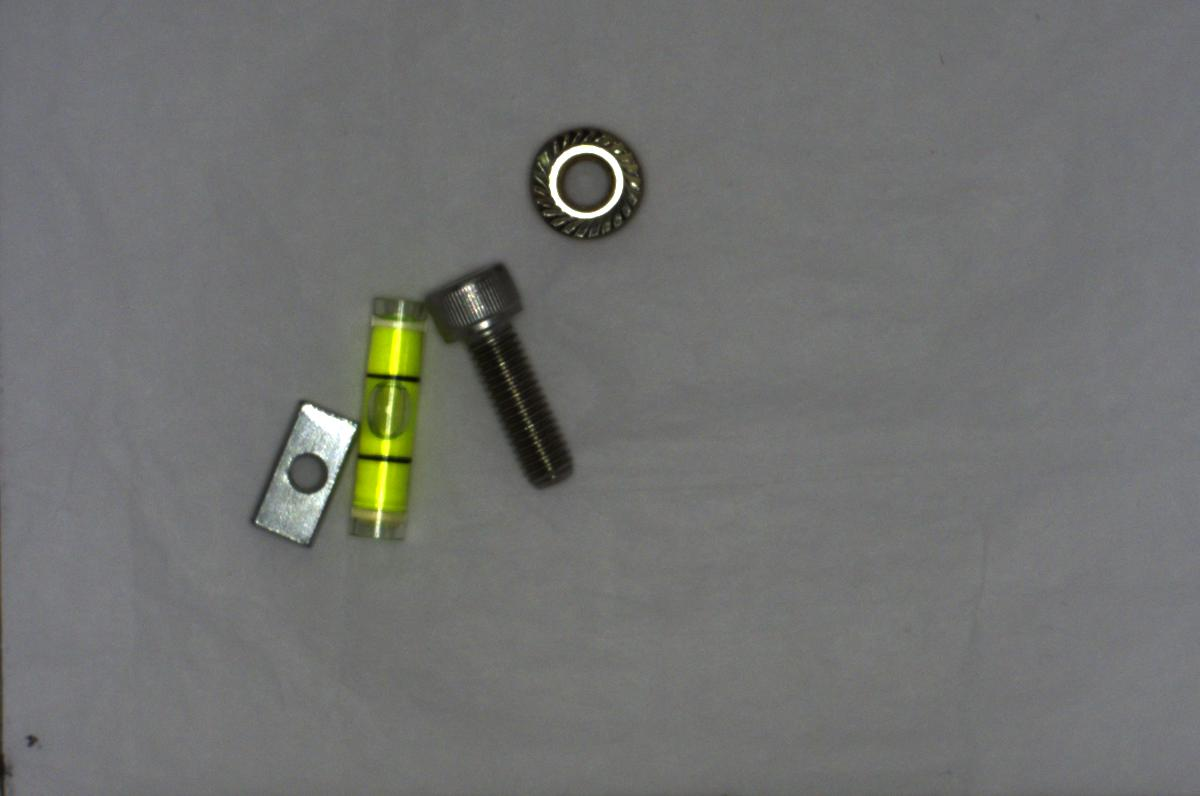Flange nut: (525, 119, 645, 246)
Hexagon screw: (430, 254, 568, 492)
Horizontal bubble: (340, 285, 428, 543)
Rectangular nut: (245, 396, 365, 556)
